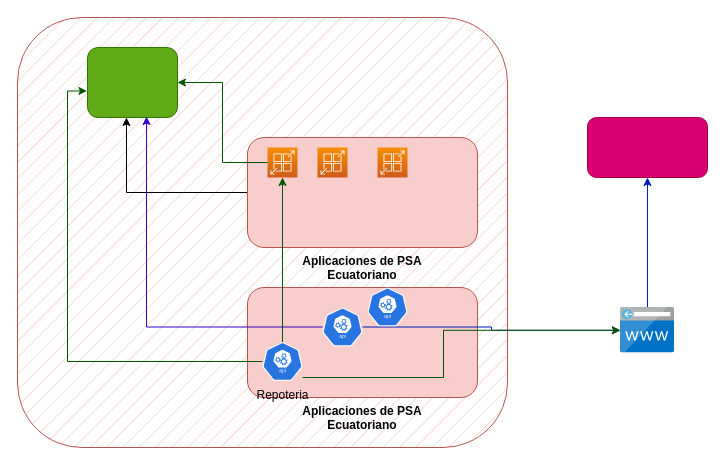
This 725x465 diagram has some shape labels left out. Here are the shapes that lost their labels. From the top down, the centre of each, then its label:
At pixel 132 82: "Sage US".
At pixel 647 147: "Clientes PSA".
